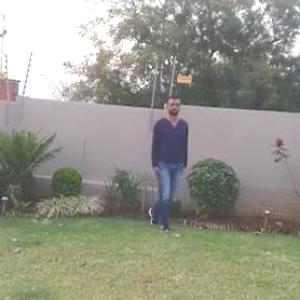follow: (143, 95, 190, 240)
